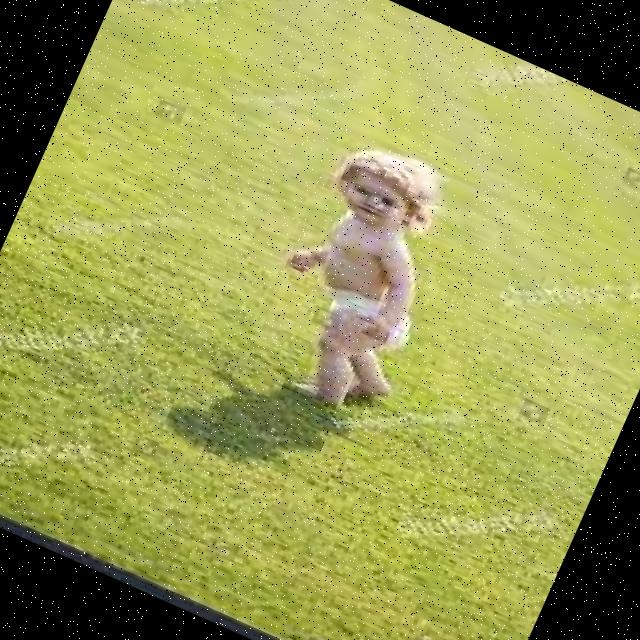Person: (242, 130, 484, 432)
